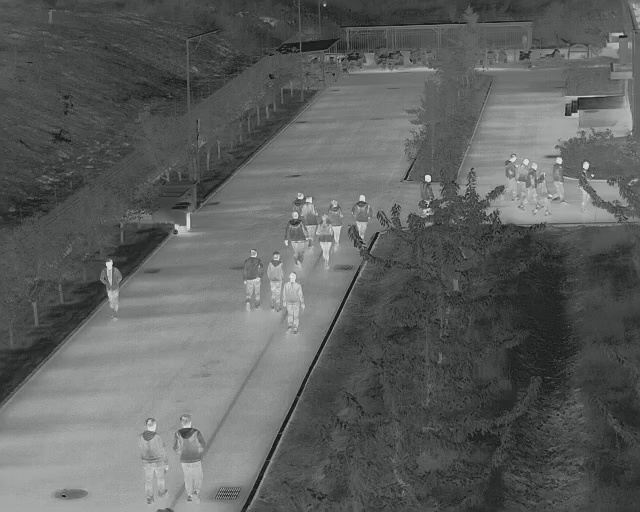person: (173, 413, 211, 505), (136, 416, 171, 507), (283, 270, 307, 338), (98, 257, 122, 320), (283, 210, 309, 267), (242, 247, 264, 312), (265, 248, 284, 313), (551, 156, 572, 206), (533, 172, 553, 217), (316, 213, 332, 269), (578, 160, 594, 212), (350, 191, 372, 228), (329, 199, 346, 244), (503, 151, 517, 203), (518, 158, 530, 209), (300, 195, 316, 226), (419, 173, 434, 204)
